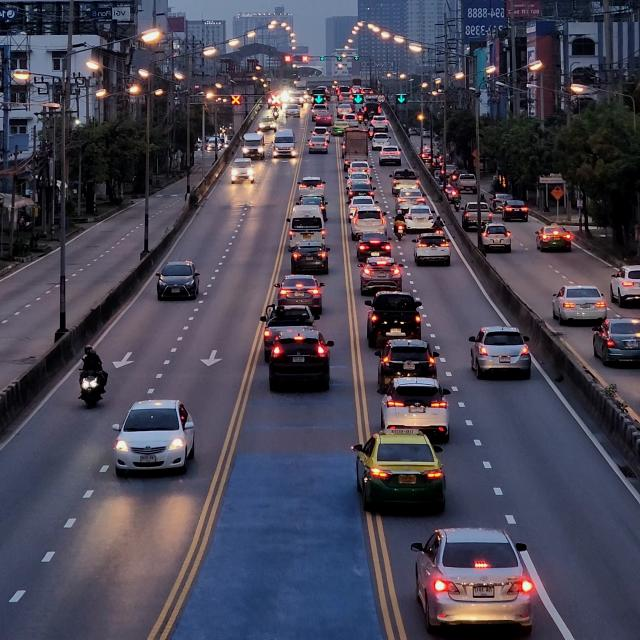Vehicle: (411, 524, 535, 634), (348, 427, 444, 505), (112, 397, 202, 478), (372, 381, 457, 442), (265, 327, 335, 392), (362, 292, 424, 349), (374, 341, 442, 392), (468, 324, 532, 376), (591, 317, 638, 369), (271, 273, 326, 313), (549, 284, 604, 324), (154, 259, 201, 303), (357, 256, 404, 290), (283, 243, 330, 277), (413, 232, 452, 266), (536, 220, 570, 254)
